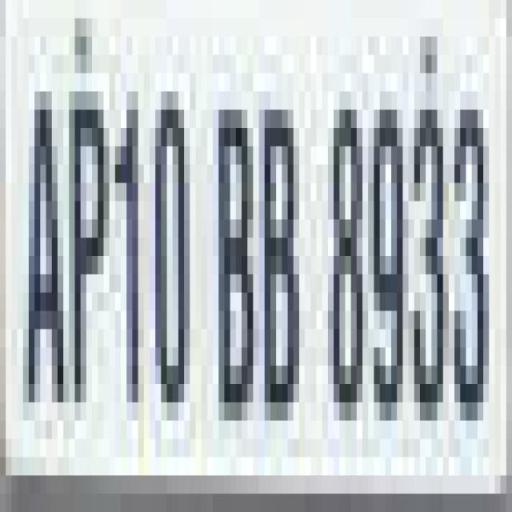number plate: (0, 18, 512, 512)
